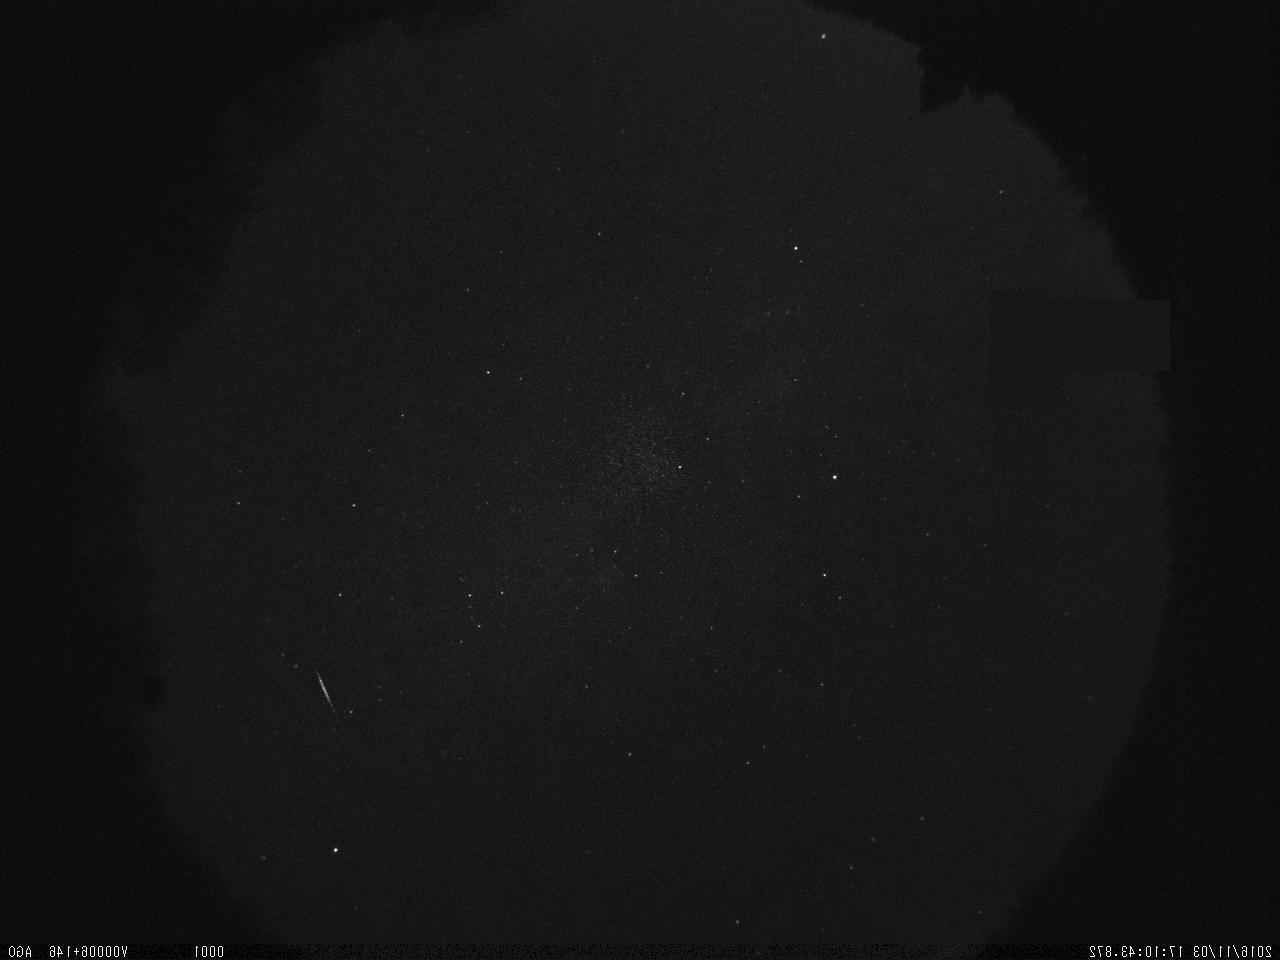meteor: (307, 654, 347, 729)
